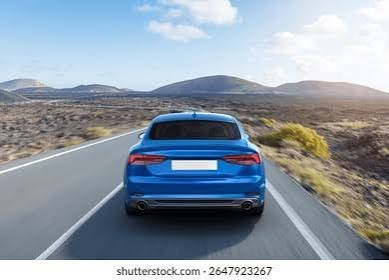car: (127, 108, 270, 223)
